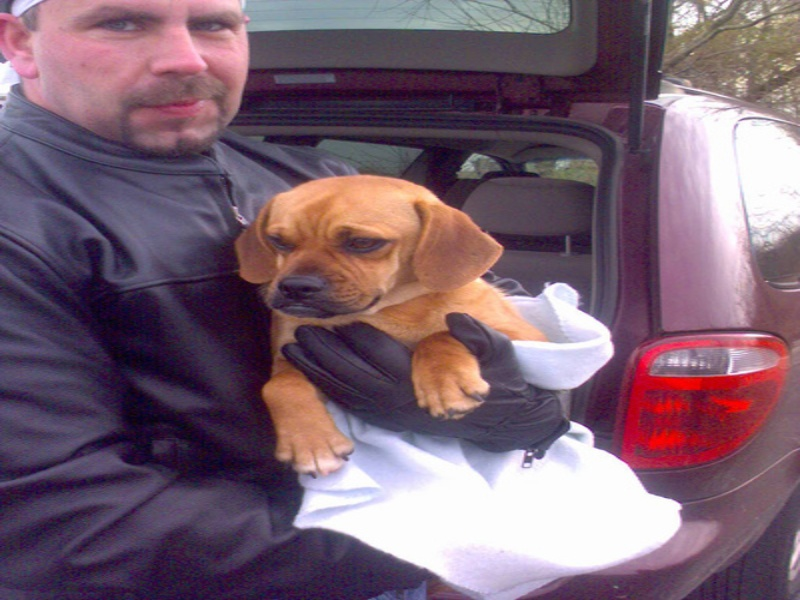person: (1, 1, 357, 600)
